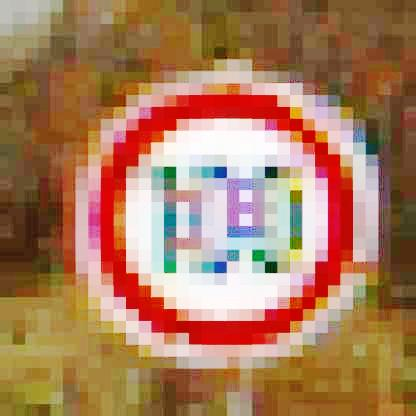Speed Limit -100-: (75, 70, 380, 362)
